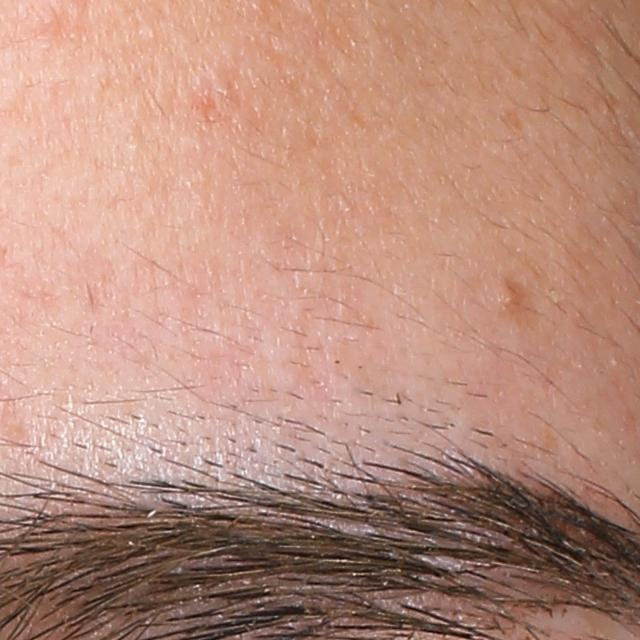comedo: (496, 283, 521, 311)
